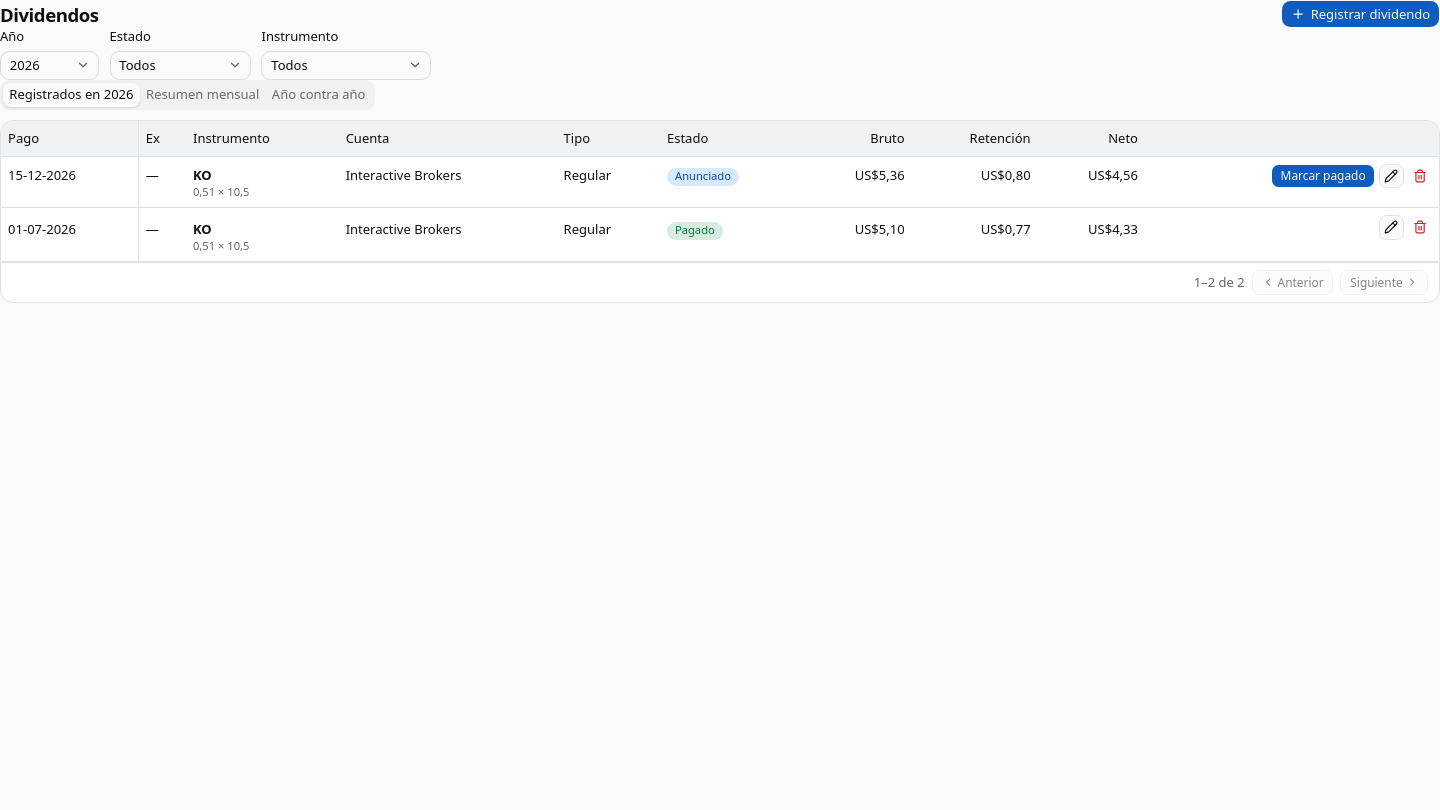
Test case: DividendsScreen › "Marcar pagado" confirma en un modal, envía la fecha (y el neto si se indica) y refresca
Click the button "Marcar pagado".
click(1323, 176)  # box [1271,164,1375,188]
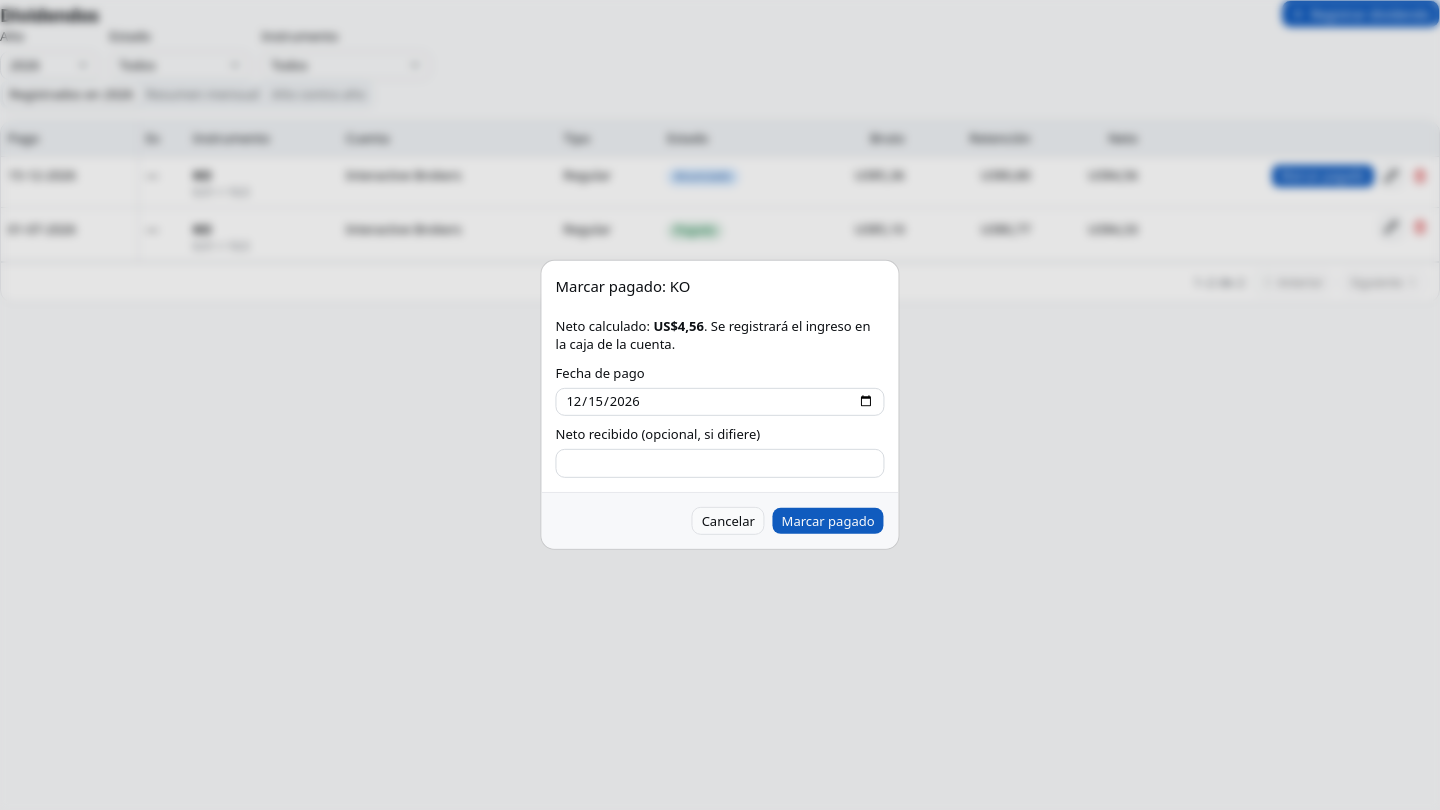
Check: the date field labelled "Fecha de pago" holds "2026-12-15", box [556,387,884,416]
Type "4,50" into the field labelled "Neto recibido (opcional, si difiere)".
click(720, 463); type("4,50")  # box [556,449,884,478]
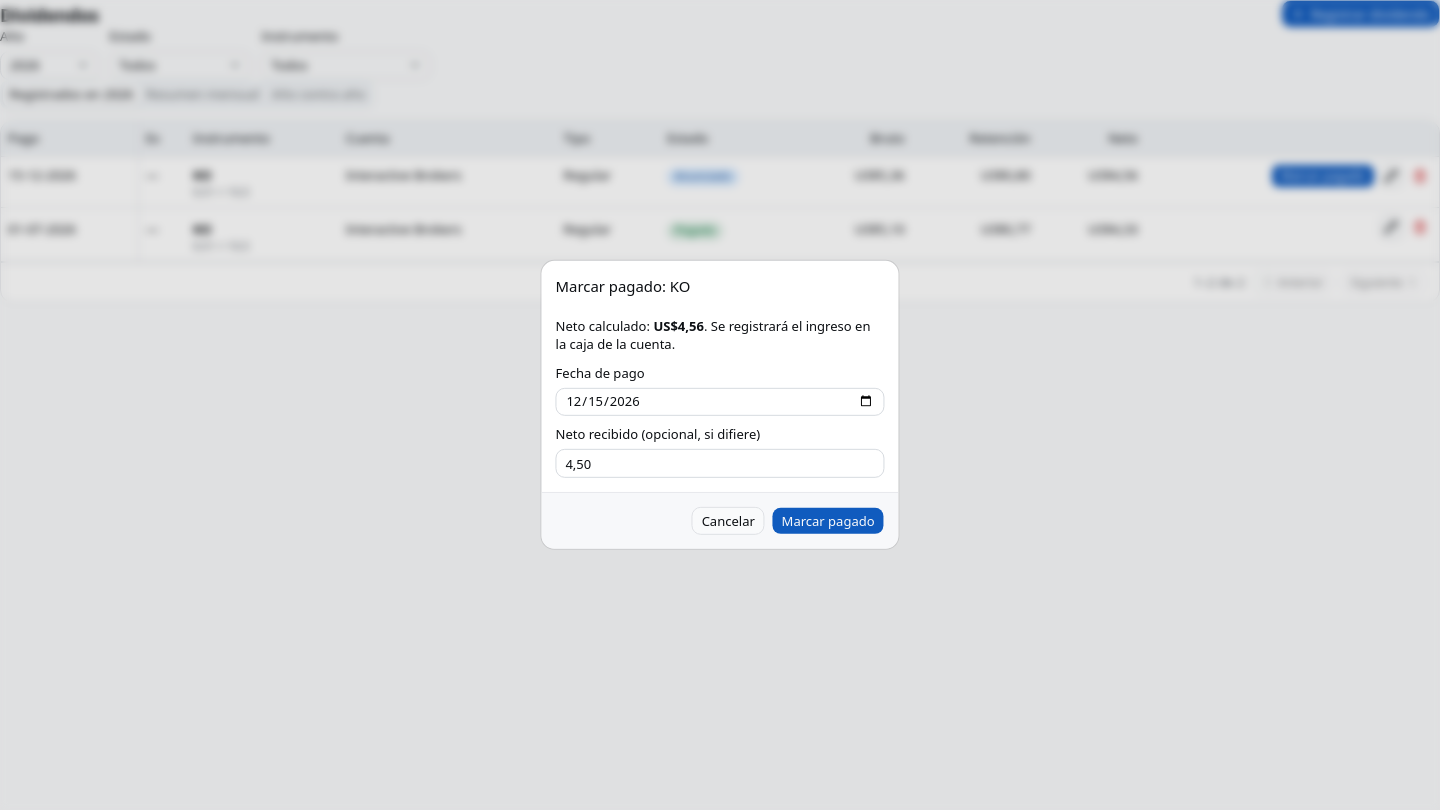
Click the button "Marcar pagado".
click(828, 521)  # box [772,507,884,535]
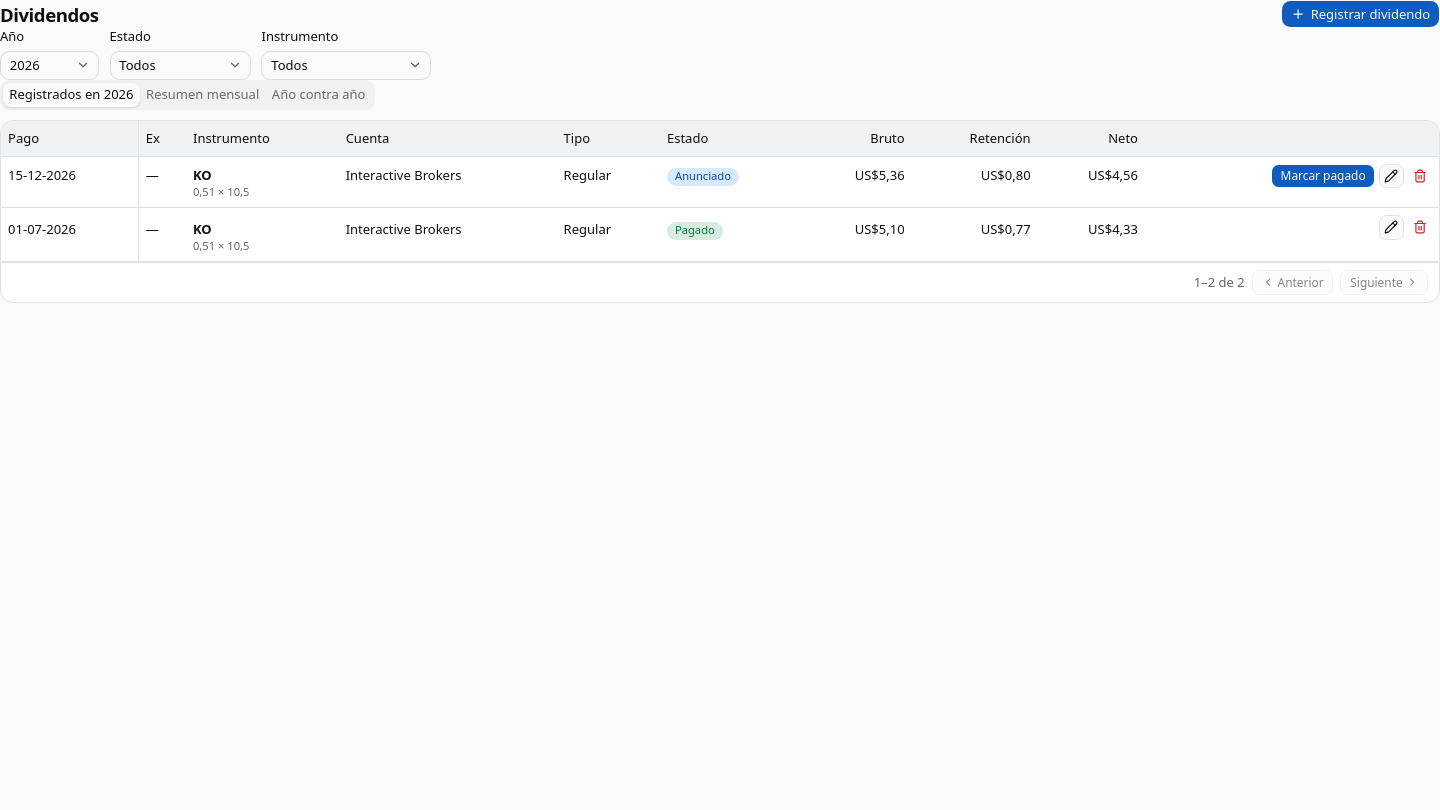
Check: the dialog is gone
